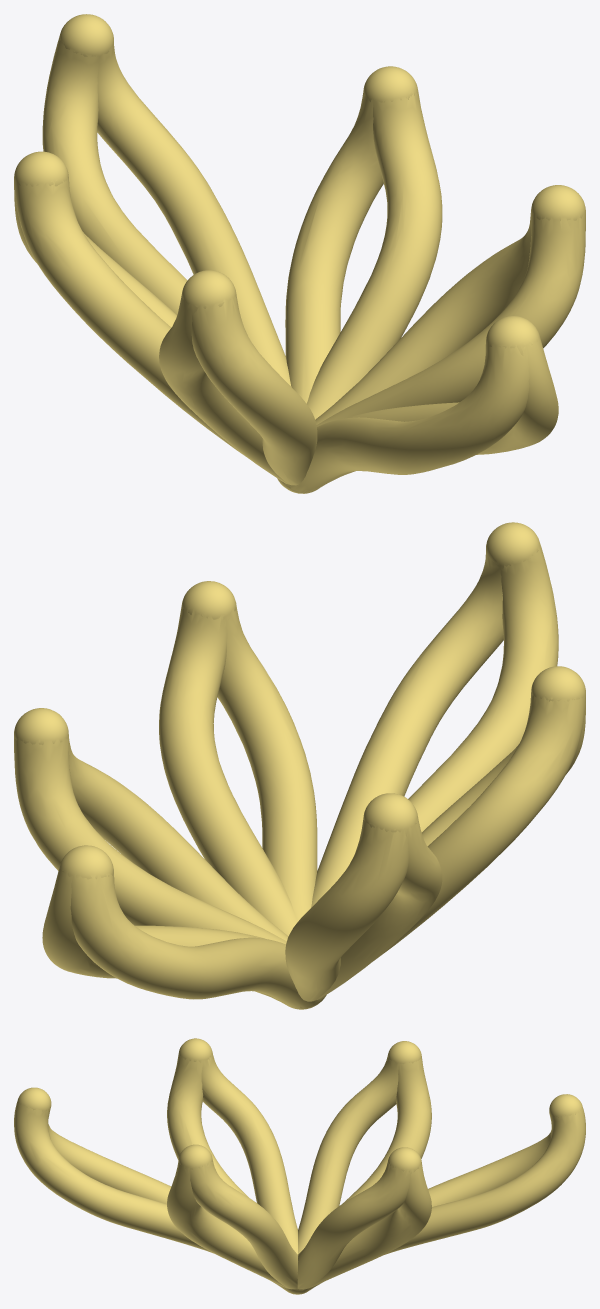
Rendered from JU_M_0031_HEAD.glb.
The picture shows the model from 3 angles, top to bottom: view 1: azimuth 30°, elevation 25°; view 2: azimuth 150°, elevation 25°; view 3: azimuth 270°, elevation 25°; orthographic projection. The views are drawn at different scales.
Parts seen in each view (by area): view 1: JU_M_0031_HEAD; view 2: JU_M_0031_HEAD; view 3: JU_M_0031_HEAD.
Part boxes in pixels (bbox=[...]): JU_M_0031_HEAD: bbox=[14, 14, 585, 493]; JU_M_0031_HEAD: bbox=[14, 522, 585, 1009]; JU_M_0031_HEAD: bbox=[14, 1038, 585, 1294].
Size of the model in its own units: 8.45 by 6.61 by 16.82.
